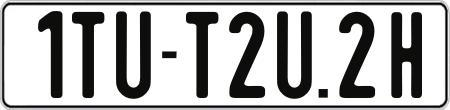1: (38, 11, 63, 100)
2: (228, 10, 267, 98), (338, 12, 374, 98)
H: (389, 11, 420, 101)
T: (70, 12, 104, 104), (186, 10, 221, 98)
U: (115, 9, 154, 99), (277, 8, 313, 102)
